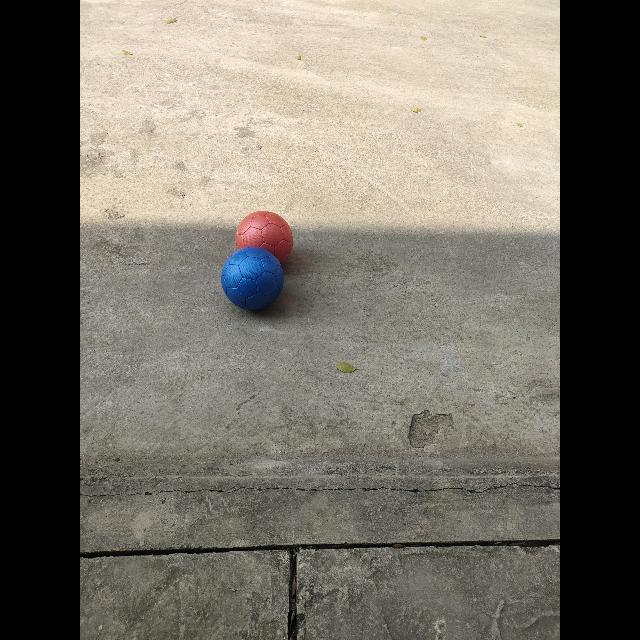B: (221, 247, 284, 311)
R: (236, 211, 293, 265)
